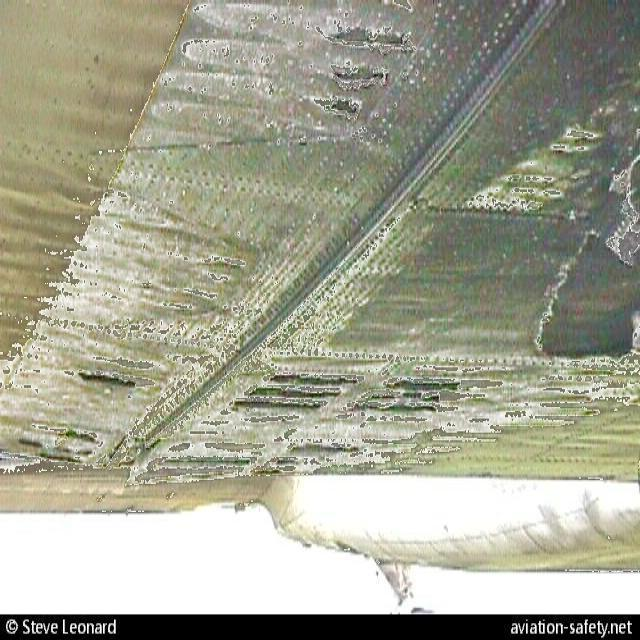crack: (303, 8, 417, 127)
